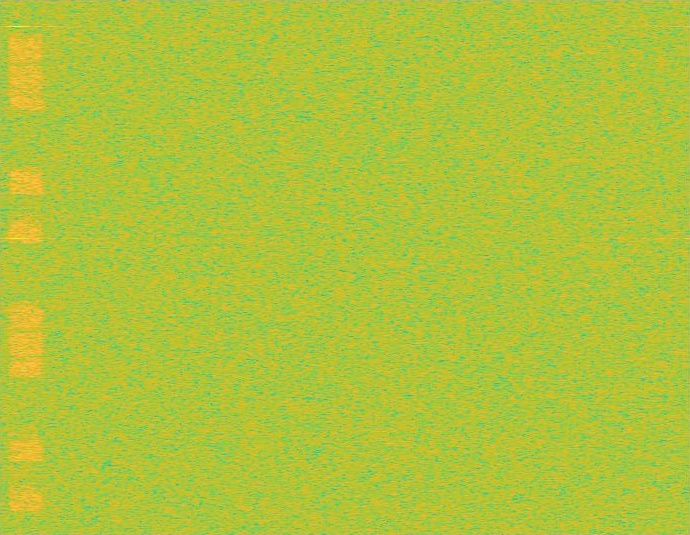LTE: (9, 0, 43, 534)
Radar: (11, 0, 25, 534)
